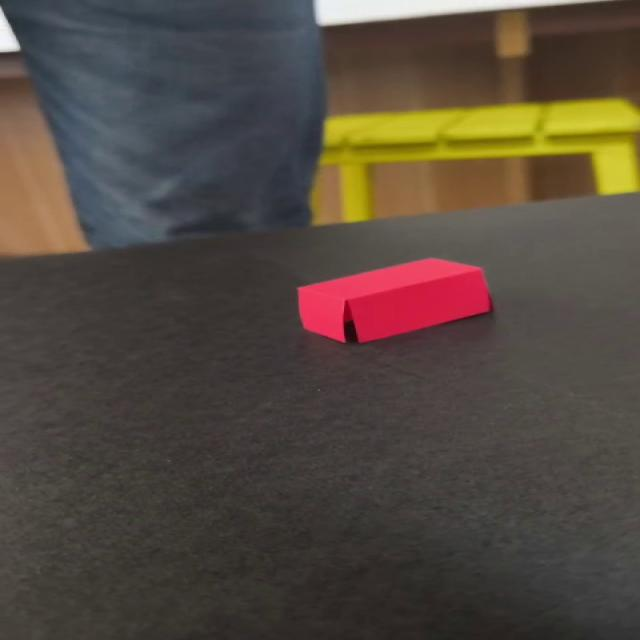red block: (295, 256, 493, 344)
